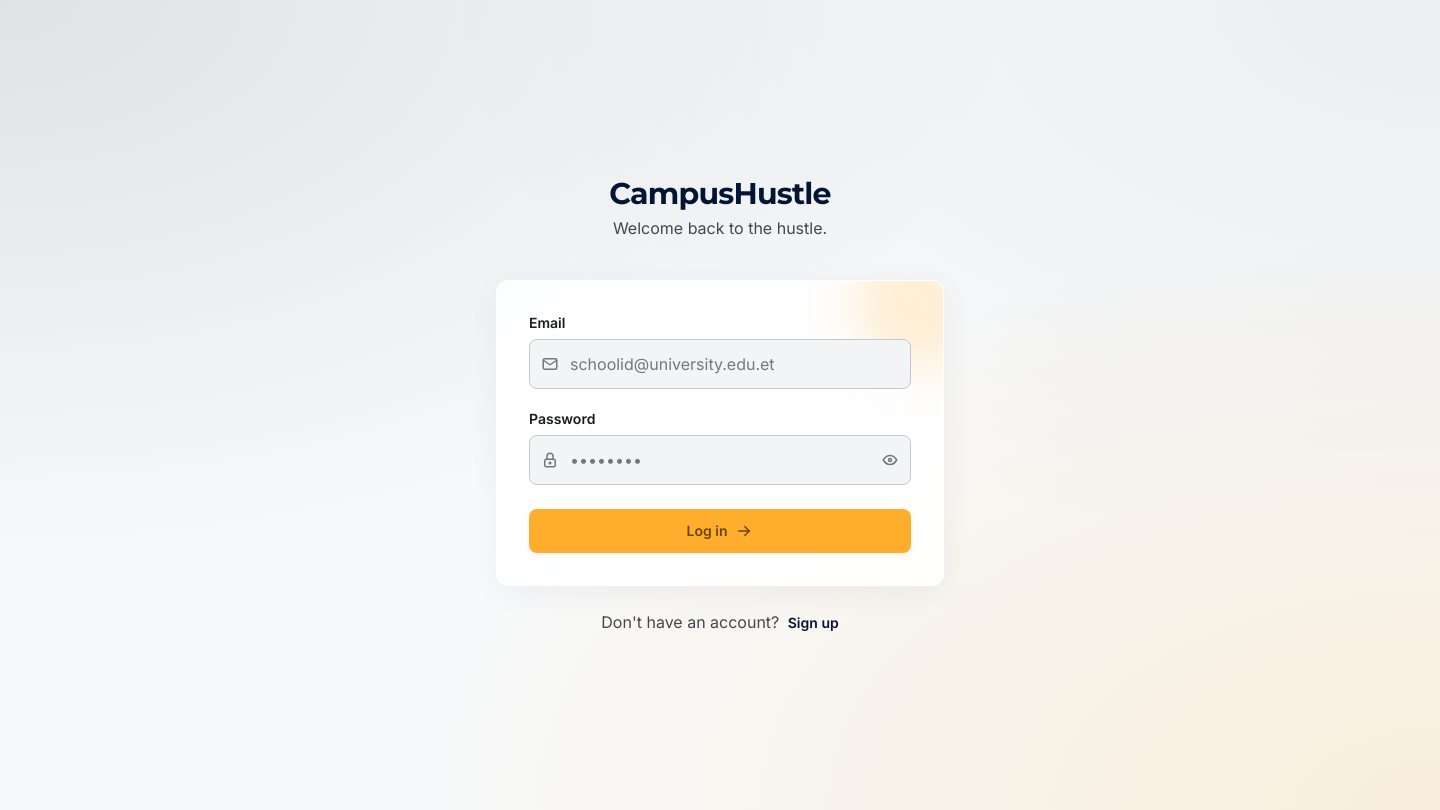
Test case: App navigation and session persistence › routes existing user straight to find-tutor after login without showing complete profile
This screenshot has width=1440, height=810.
Expected: the heading "CampusHustle" is shown, [609,175,831,212]
Expected: the text "Welcome back to the hustle." is shown, [613,218,827,238]
In the field labelled "Email": x=720, y=364 [529,339,911,389], type "student@campus.edu.et"
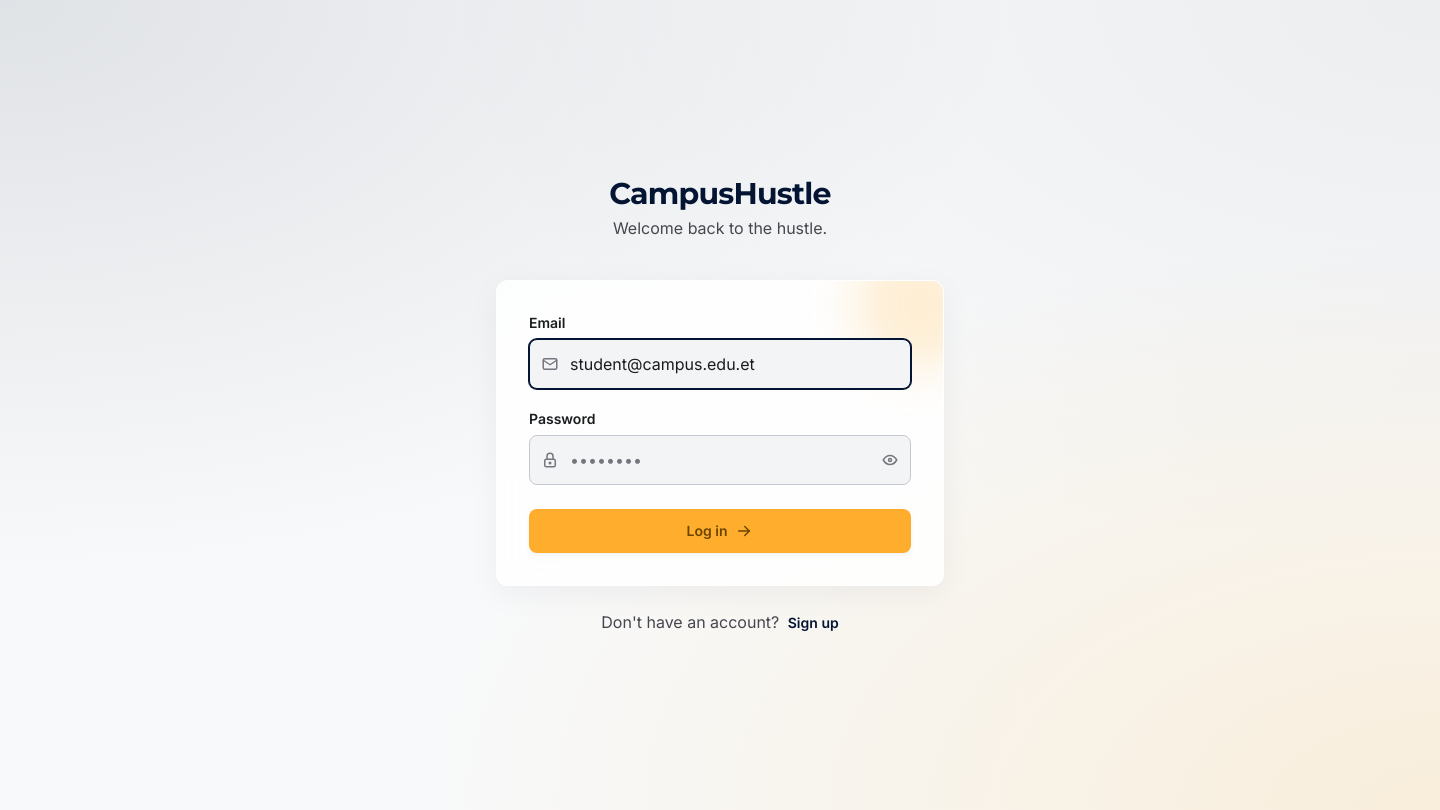
In the password field labelled "Password": x=720, y=460 [529,435,911,485], type "password123"
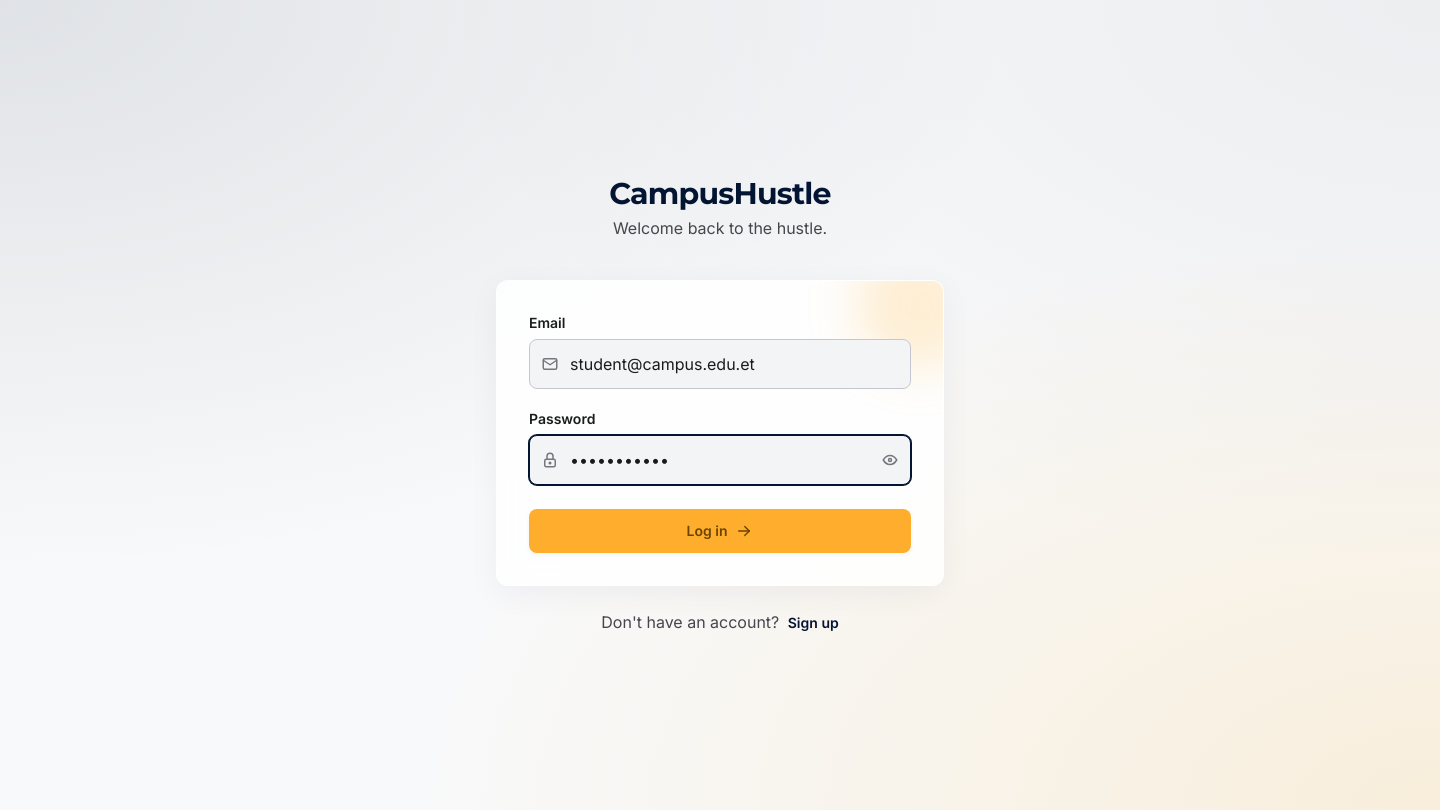
Click the button "Log in": x=720, y=531 [529,509,911,553]
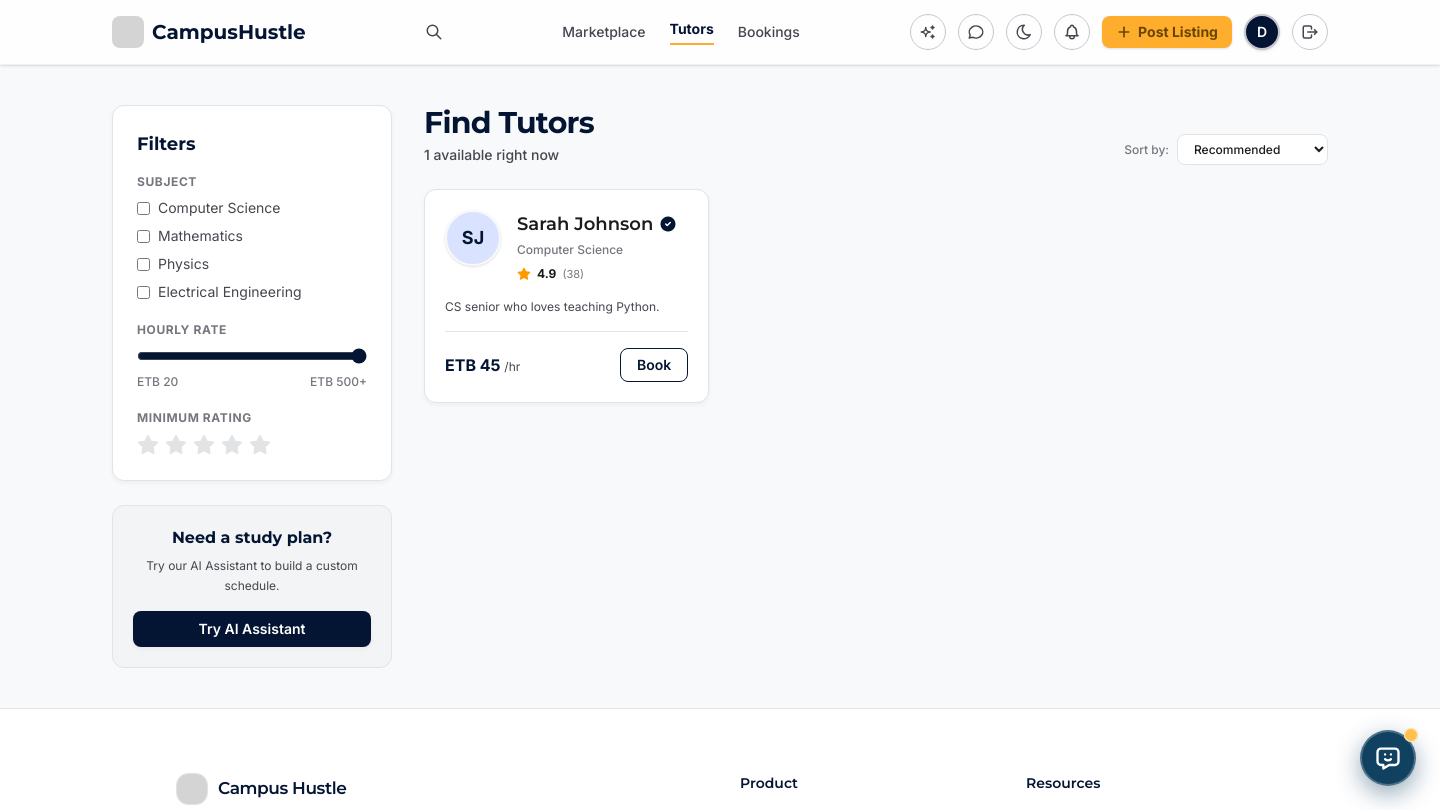
Expected: the text "Complete Your Profile" is not shown
Result: the heading "Find Tutors" is shown at [424,105,594,141]
